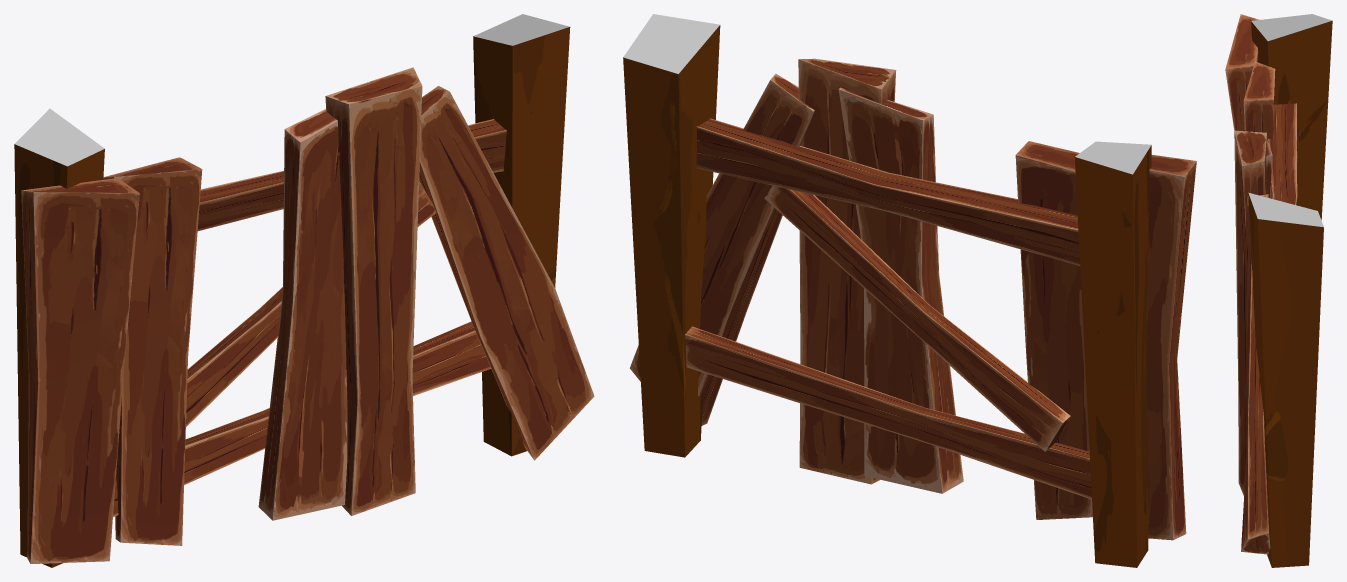
Rendered from SM_PROP_fence_v01_04.fbx.
The picture shows the model from 3 angles, left to right: view 1: azimuth 30°, elevation 25°; view 2: azimuth 150°, elevation 25°; view 3: azimuth 270°, elevation 25°; orthographic projection. The views are drawn at different scales.
Visible parts, largest first — view 1: SM_PROP_fence_v01_04; view 2: SM_PROP_fence_v01_04; view 3: SM_PROP_fence_v01_04.
Boxes of the visible parts, x1,y1,x2,y2 form: SM_PROP_fence_v01_04: (14, 14, 594, 567); SM_PROP_fence_v01_04: (623, 14, 1196, 567); SM_PROP_fence_v01_04: (1225, 14, 1332, 567).
Size of the model in its own units: 279 by 202 by 54.28.
